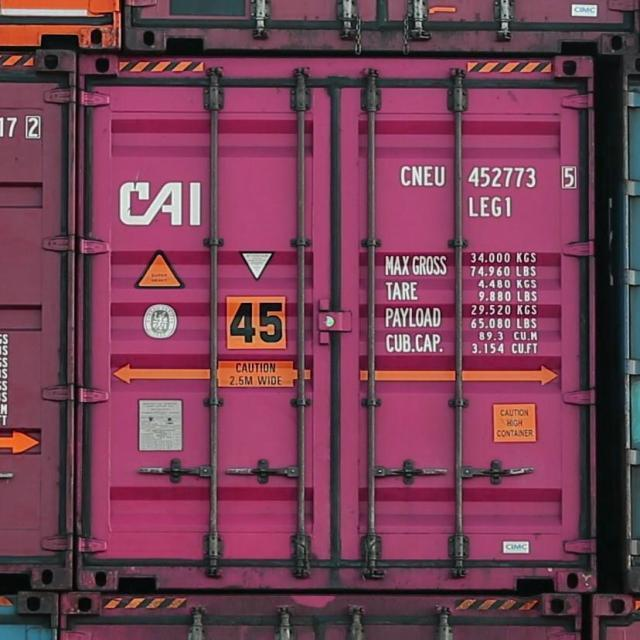ISO: (470, 196, 516, 218)
container_number: (402, 163, 574, 190)
